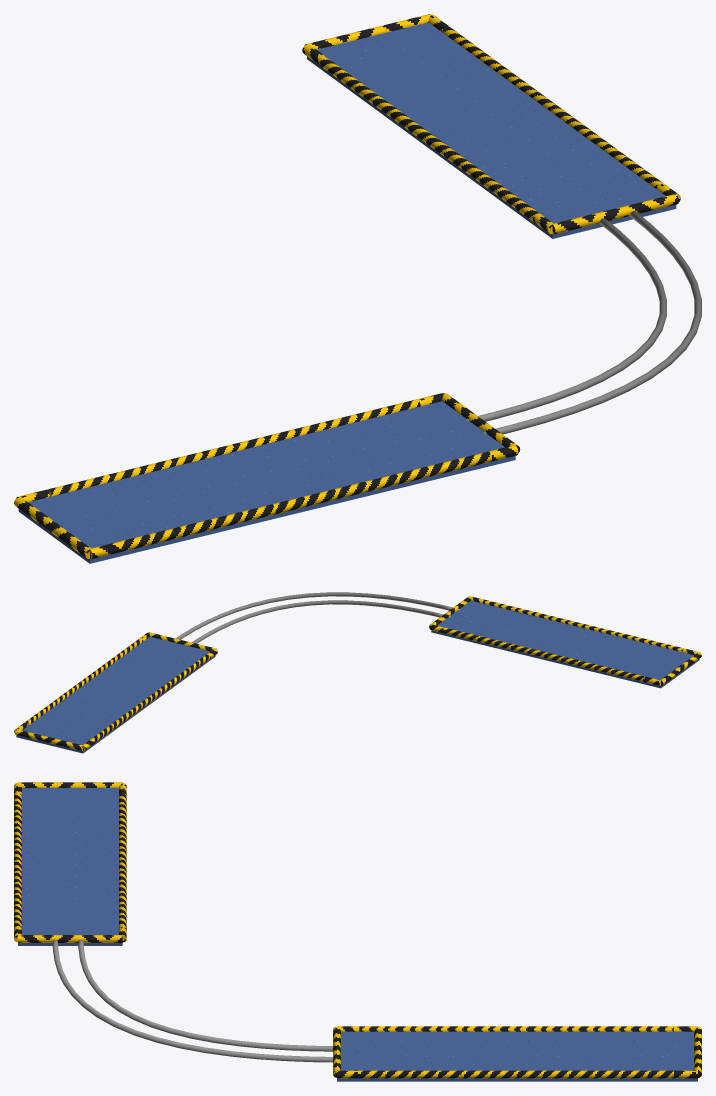
File: GregBallTutLevel2.fbx
The picture shows the model from 3 angles, top to bottom: view 1: azimuth 30°, elevation 25°; view 2: azimuth 150°, elevation 25°; view 3: azimuth 270°, elevation 25°; orthographic projection. The views are drawn at different scales.
Parts seen in each view (by area): view 1: Cube.004, Cube, Cube.003; view 2: Cube.004, Cube, Cube.003; view 3: Cube, Cube.004, Cube.003.
Part boxes in pixels (<box>): Cube.004: <box>14,393,520,563</box>; Cube: <box>302,14,680,238</box>; Cube.003: <box>465,211,701,434</box>; Cube.004: <box>429,596,701,688</box>; Cube: <box>14,632,217,753</box>; Cube.003: <box>175,592,460,643</box>; Cube: <box>333,1026,701,1081</box>; Cube.004: <box>14,782,126,945</box>; Cube.003: <box>52,939,333,1062</box>.
Bounding box in the file's own units: 5260 × 89.93 × 5249.
